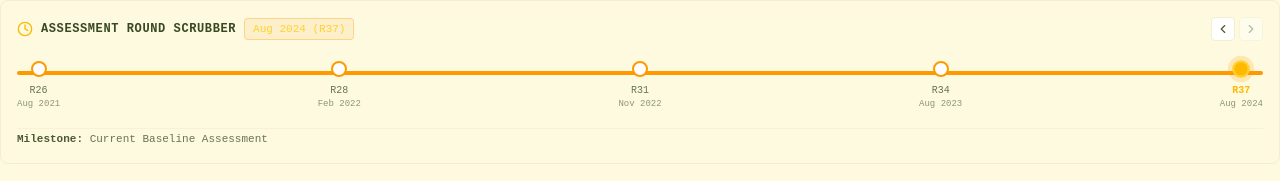
Test case: InteractiveFilterBar & TimelineScrubber Controls › renders TimelineScrubber and scrubs across assessment rounds
The width and height of the screenshot is (1280, 181).
Expected: the text "Assessment Round Scrubber" is shown, [41,21,236,37]
Expected: the text "Current Baseline Assessment" is shown, [90,132,268,144]
Click Round 28
Click the button "R28 Feb 2022": (339, 86) [318,61,361,112]
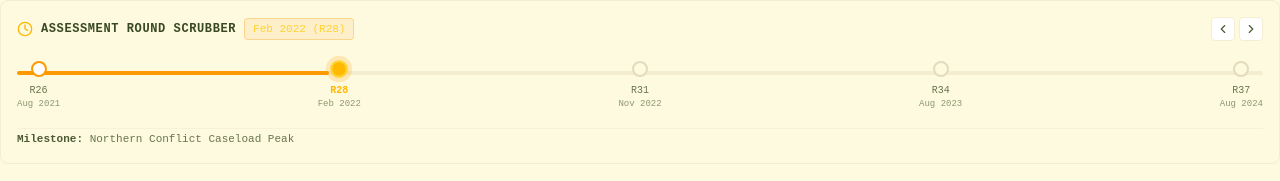
Result: the text "Northern Conflict Caseload Peak" is shown at [90,132,294,144]
